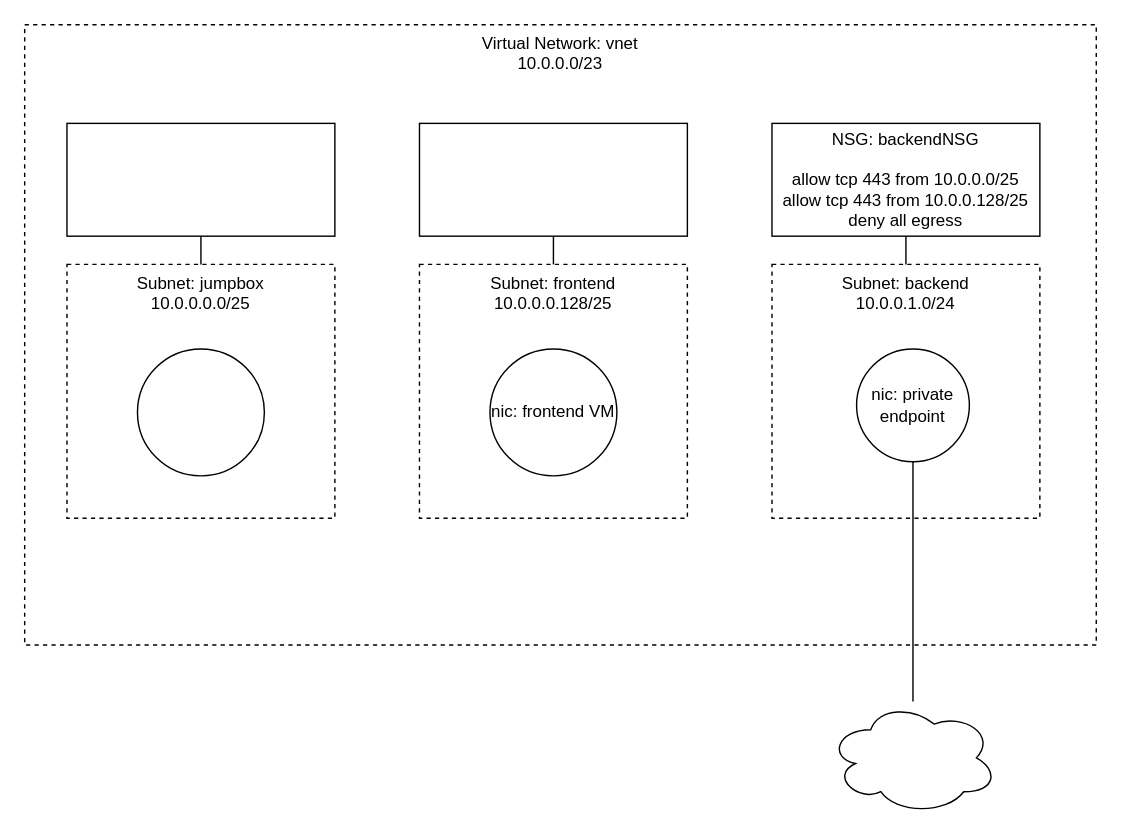
This 1121x839 diagram has some shape labels left out. Each missing label, with the centre of its shape:
Azure Blob Storage: point 912,757
nic: jumpbox VM: point 200,412
NSG: frontendNSG allow tcp 80 from Internet allow tcp 443 from Internet: point 552,179
NSG: jumpboxNSG allow tcp 443 from Internet allow tcp 22 from Internet: point 200,179
